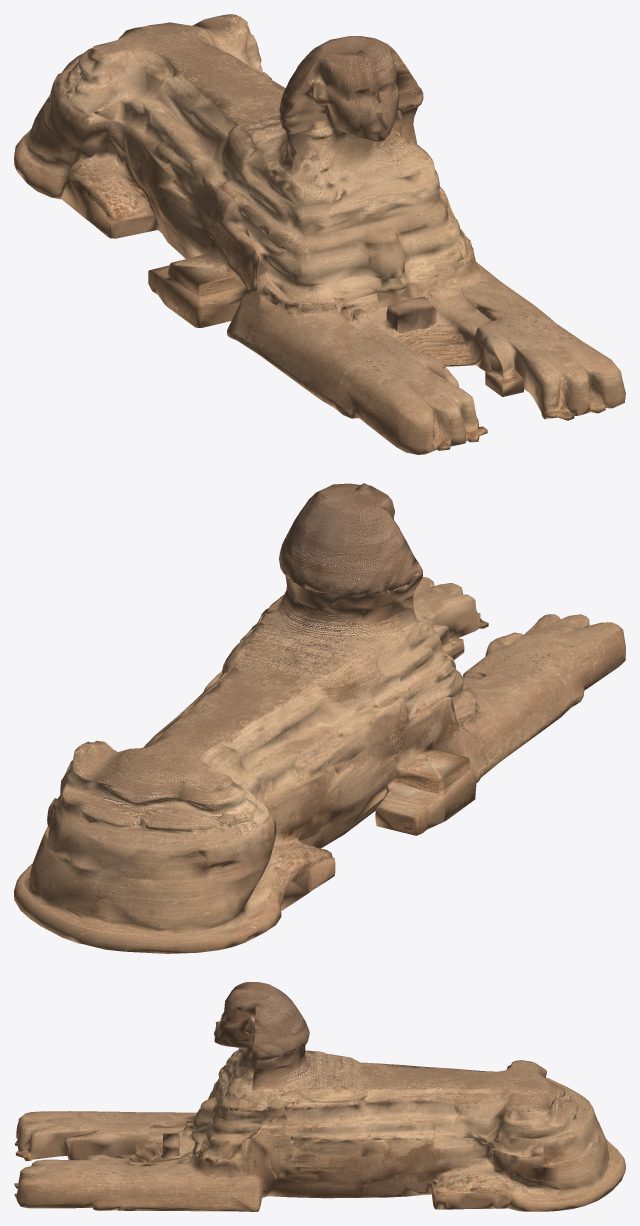
The model's file is sphinx_great.glb.
The picture shows the model from 3 angles, top to bottom: view 1: azimuth 30°, elevation 25°; view 2: azimuth 150°, elevation 25°; view 3: azimuth 270°, elevation 25°; orthographic projection. The views are drawn at different scales.
Visible parts, largest first — view 1: sphinx_great; view 2: sphinx_great; view 3: sphinx_great.
Part boxes in pixels (left/top/right/bottom): sphinx_great: left=14, top=14, right=625, bottom=454; sphinx_great: left=14, top=483, right=625, bottom=953; sphinx_great: left=14, top=982, right=625, bottom=1211.
Bounding box in the file's own units: 0.6558 × 0.6223 × 1.9.
1 material, 1 textured.
